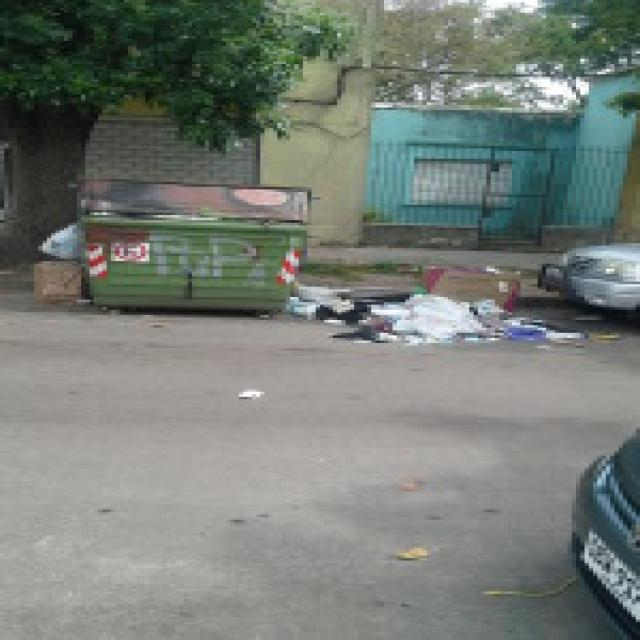garbage: (286, 272, 559, 354)
